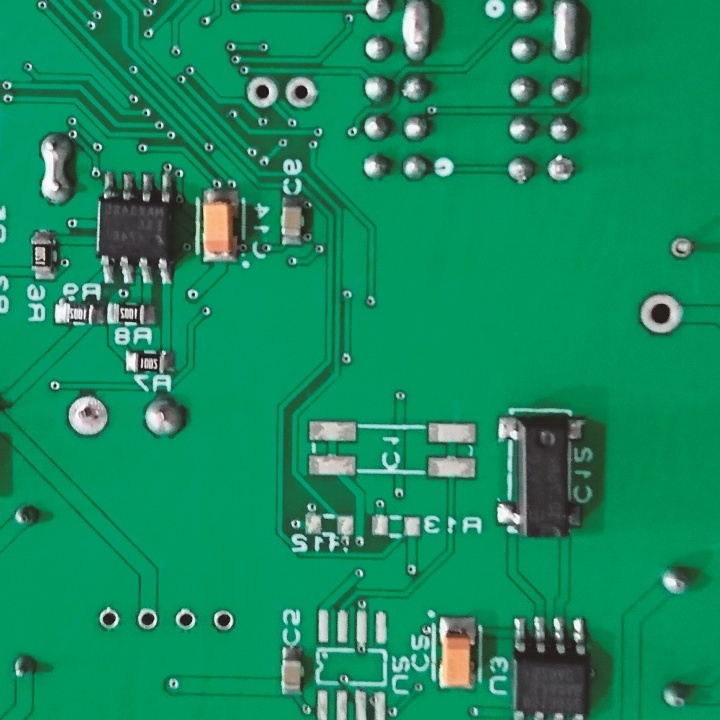F: (64, 392, 113, 442), (637, 291, 687, 337), (286, 73, 322, 114), (244, 73, 280, 110), (544, 152, 576, 186), (208, 606, 236, 637), (668, 235, 696, 263), (96, 603, 120, 635), (134, 606, 160, 635), (172, 609, 199, 635)
P: (35, 129, 78, 208), (547, 1, 585, 67), (401, 1, 436, 72)
